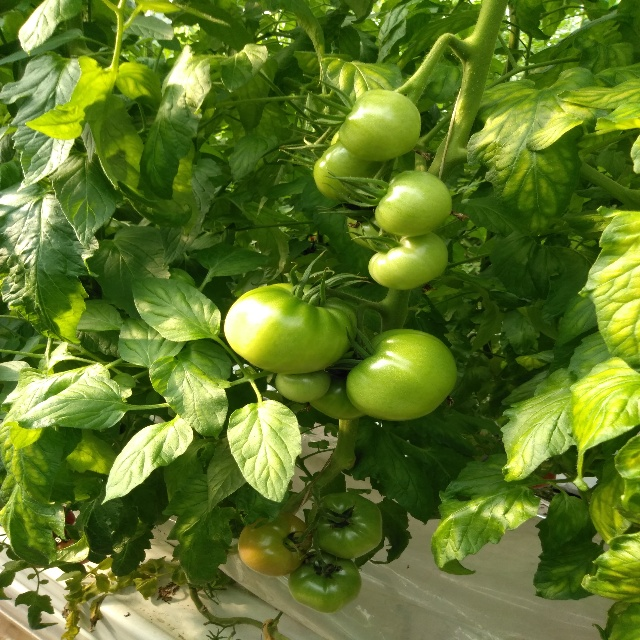b_green: (224, 283, 359, 375), (345, 328, 458, 421), (338, 89, 422, 162), (375, 170, 453, 237), (310, 492, 383, 560), (313, 139, 391, 202), (368, 232, 448, 291), (288, 550, 362, 613), (308, 363, 364, 420), (347, 195, 401, 251), (275, 369, 330, 403)
b_half_ripened: (238, 513, 312, 576)
